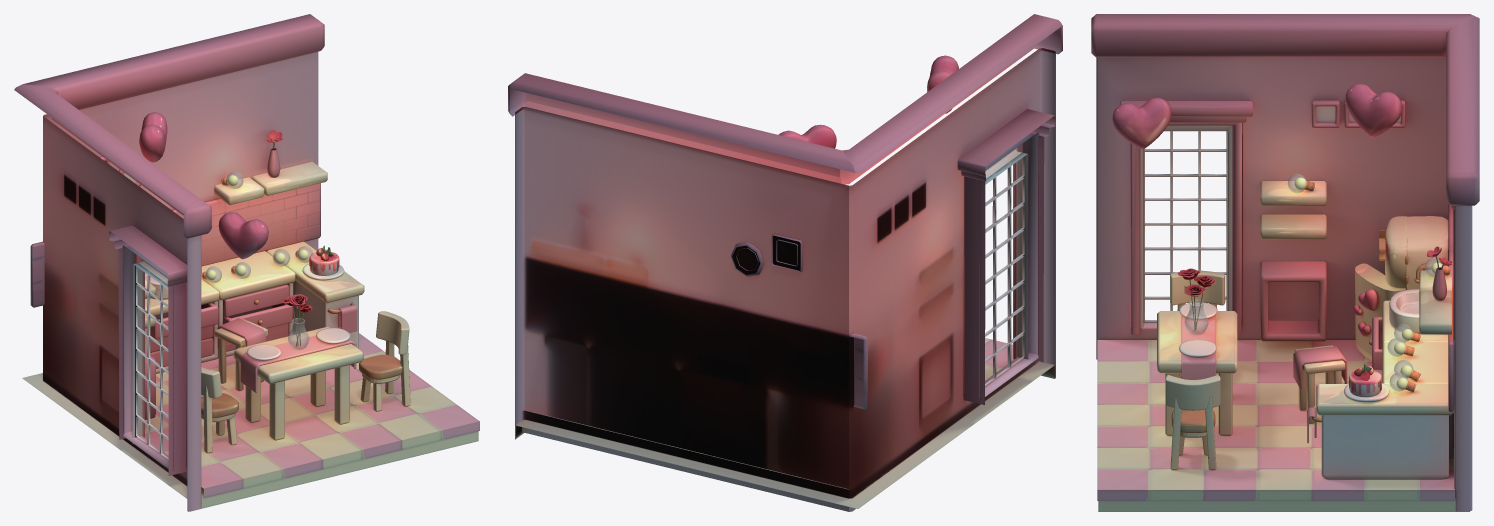
File: LoveRoomModel.FBX
3 views of the same model, side by side, from view 1: azimuth 30°, elevation 25°; view 2: azimuth 150°, elevation 25°; view 3: azimuth 270°, elevation 25° (orthographic). The views are drawn at different scales.
Visible parts, largest first — view 1: Dinner004, Dinner002, Dinner001, Dinner003, Dinner011, Dinner010, Dinner007, Dinner008, Dinner006, Dinner009; view 2: Dinner004, Dinner002, Dinner011, Dinner008; view 3: Dinner004, Dinner002, Dinner003, Dinner001, Dinner005, Dinner011, Dinner008, Dinner010, Dinner007, Dinner009, Dinner006.
Boxes of the visible parts, x1=… form: Dinner004: x1=43, y1=51, x2=327, y2=511; Dinner002: x1=14, y1=14, x2=479, y2=511; Dinner001: x1=201, y1=311, x2=410, y2=452; Dinner003: x1=145, y1=241, x2=364, y2=373; Dinner011: x1=139, y1=112, x2=268, y2=259; Dinner010: x1=205, y1=172, x2=312, y2=350; Dinner007: x1=246, y1=264, x2=350, y2=360; Dinner008: x1=100, y1=148, x2=339, y2=275; Dinner006: x1=267, y1=130, x2=312, y2=346; Dinner009: x1=201, y1=175, x2=308, y2=280; Dinner004: x1=515, y1=48, x2=1055, y2=511; Dinner002: x1=508, y1=14, x2=1062, y2=508; Dinner011: x1=778, y1=55, x2=958, y2=148; Dinner008: x1=731, y1=234, x2=802, y2=276; Dinner004: x1=1096, y1=57, x2=1472, y2=511; Dinner002: x1=1091, y1=14, x2=1479, y2=511; Dinner003: x1=1307, y1=263, x2=1453, y2=479; Dinner001: x1=1157, y1=270, x2=1347, y2=469; Dinner005: x1=1355, y1=216, x2=1448, y2=361; Dinner011: x1=1112, y1=84, x2=1402, y2=336; Dinner008: x1=1311, y1=100, x2=1454, y2=396; Dinner010: x1=1184, y1=173, x2=1443, y2=391; Dinner007: x1=1179, y1=302, x2=1389, y2=401; Dinner009: x1=1294, y1=177, x2=1450, y2=392; Dinner006: x1=1177, y1=246, x2=1452, y2=330.
Size of the model in its own units: 631 by 601 by 624.
